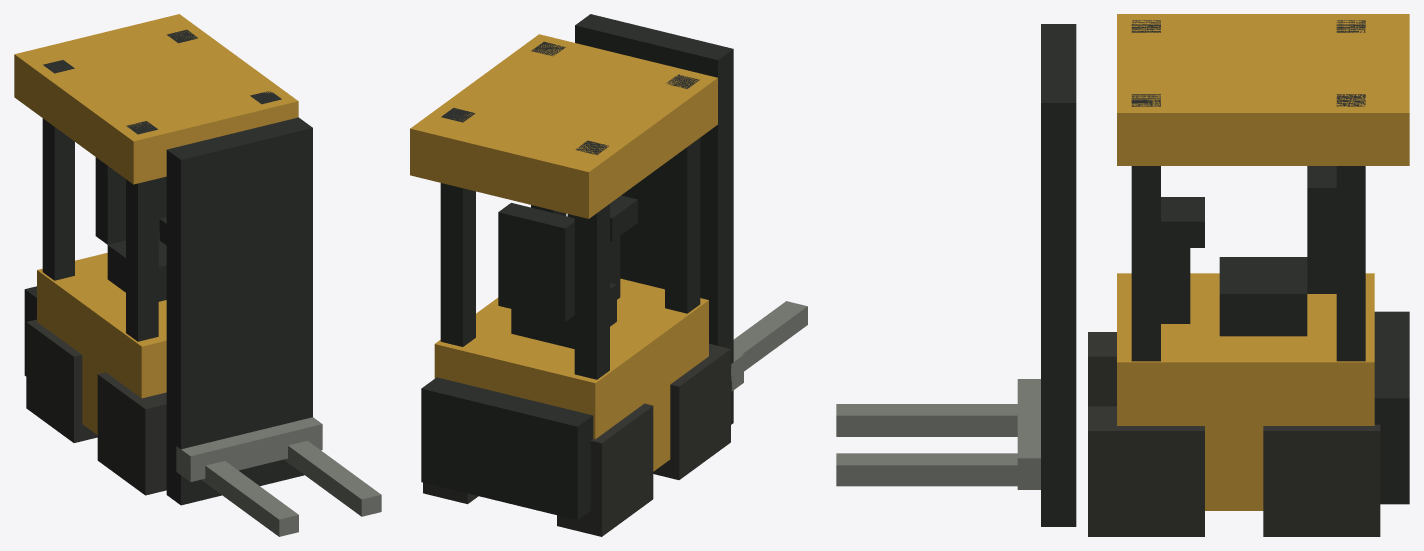
File: forklift.gltf
3 renders of one model, left to right at view 1: azimuth 30°, elevation 25°; view 2: azimuth 150°, elevation 25°; view 3: azimuth 270°, elevation 25°, orthographic. The views are drawn at different scales.
Parts seen in each view (by area): view 1: mast, roof, body, wheel_-1_0Mesh, wheel_-1_1Mesh, postFront-1, postRear-1, crossbar, fork0.25, fork-0.25, backrest, seat (+1 smaller); view 2: roof, body, counterweight, mast, backrest, wheel_-1_1Mesh, wheel_-1_0Mesh, postRear-1, postFront-1, postRear1, fork-0.25, seat (+3 smaller); view 3: roof, body, mast, wheel_1_0Mesh, wheel_1_1Mesh, seat, counterweight, postFront1, postRear1, fork0.25, fork-0.25, backrest (+4 smaller).
Boxes of the visible parts, x1,y1,x2,y2 form: mast: [166, 117, 312, 505]; roof: [14, 14, 298, 184]; body: [37, 253, 166, 434]; wheel_-1_0Mesh: [97, 372, 166, 495]; wheel_-1_1Mesh: [26, 319, 97, 442]; postFront-1: [126, 121, 158, 341]; postRear-1: [42, 60, 74, 280]; crossbar: [176, 417, 322, 482]; fork0.25: [284, 440, 381, 516]; fork-0.25: [201, 461, 298, 536]; backrest: [95, 157, 166, 244]; seat: [107, 232, 166, 301]; roof: [410, 34, 717, 218]; body: [434, 278, 708, 471]; counterweight: [421, 377, 593, 520]; mast: [575, 14, 733, 424]; backrest: [498, 203, 574, 321]; wheel_-1_1Mesh: [557, 403, 653, 536]; wheel_-1_0Mesh: [653, 343, 730, 479]; postRear-1: [574, 140, 609, 379]; postFront-1: [665, 74, 700, 313]; postRear1: [440, 107, 475, 346]; fork-0.25: [733, 301, 807, 371]; seat: [511, 282, 616, 348]; roof: [1117, 14, 1409, 165]; body: [1117, 273, 1374, 510]; mast: [1041, 24, 1076, 526]; wheel_1_0Mesh: [1088, 406, 1204, 536]; wheel_1_1Mesh: [1263, 424, 1380, 536]; seat: [1219, 257, 1307, 336]; counterweight: [1374, 311, 1409, 504]; postFront1: [1131, 94, 1160, 361]; postRear1: [1336, 94, 1365, 361]; fork0.25: [836, 453, 1017, 486]; fork-0.25: [836, 404, 1017, 436]; backrest: [1307, 166, 1336, 293].
Size of the model in its own units: 1 by 2 by 2.45.
